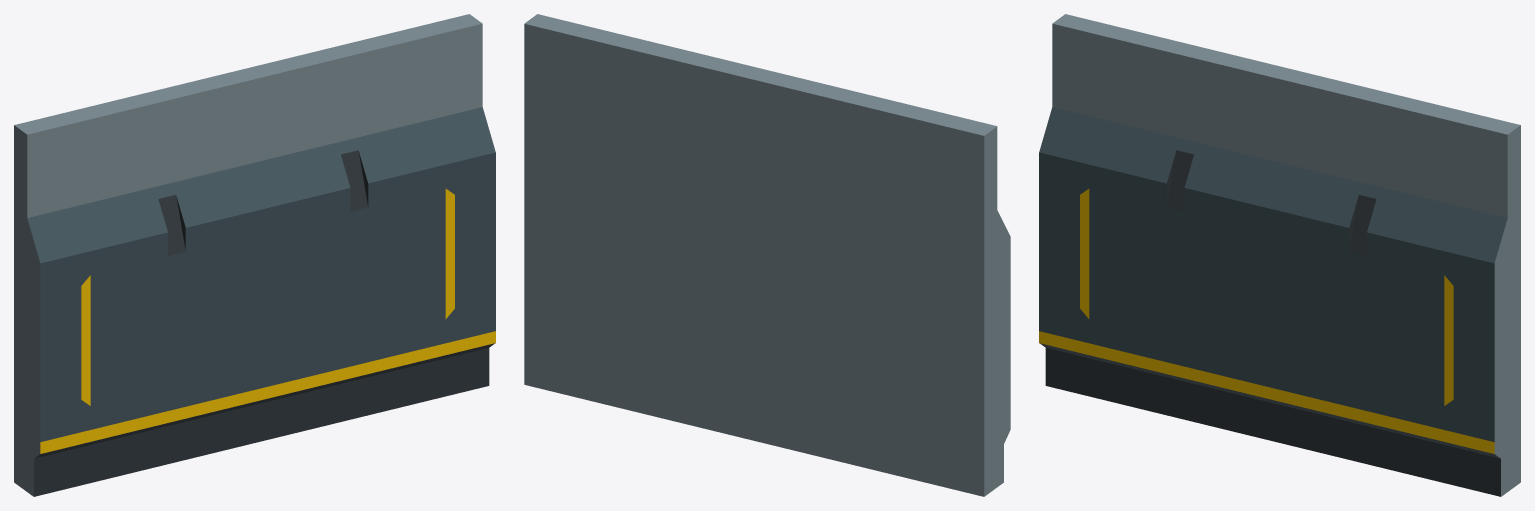
The model's file is Wall_type_C_045.glb.
3 views of the same model, side by side, from view 1: azimuth 30°, elevation 25°; view 2: azimuth 150°, elevation 25°; view 3: azimuth 330°, elevation 25° (orthographic).
Visible parts, largest first — view 1: Wall_type_C_045; view 2: Wall_type_C_045; view 3: Wall_type_C_045.
Part boxes in pixels (x1,y1,x2,y2): Wall_type_C_045: [14, 14, 495, 496]; Wall_type_C_045: [524, 14, 1010, 496]; Wall_type_C_045: [1039, 14, 1520, 496].
Size of the model in its own units: 2 by 1.5 by 0.2.
1 material, 1 textured.
